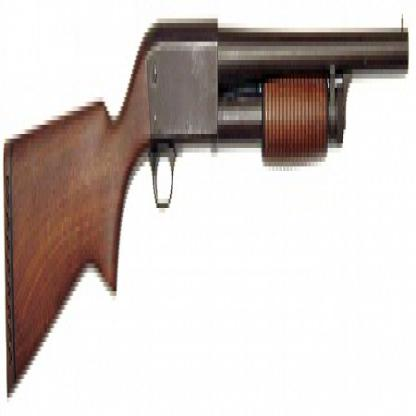Gun: (1, 0, 416, 412)
